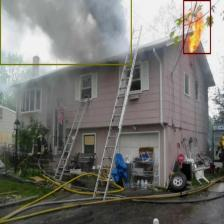fire: (183, 0, 210, 54)
smoke: (0, 0, 132, 65)
